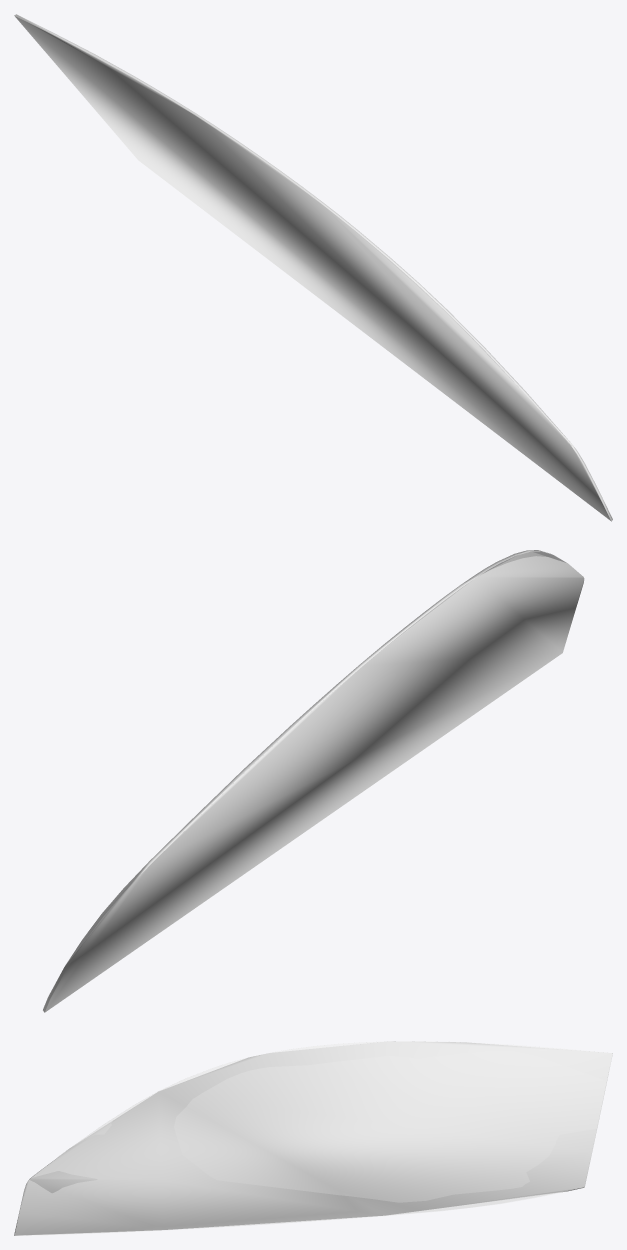
3 views of the same model, one above another, from view 1: azimuth 30°, elevation 25°; view 2: azimuth 150°, elevation 25°; view 3: azimuth 270°, elevation 25° (orthographic). The views are drawn at different scales.
Visible parts, largest first — view 1: glass_eclipse_side_window_r_01_col, glass_eclipse_side_window_r_01; view 2: glass_eclipse_side_window_r_01_col, glass_eclipse_side_window_r_01; view 3: glass_eclipse_side_window_r_01, glass_eclipse_side_window_r_01_col.
Boxes of the visible parts, x1,y1,x2,y2 form: glass_eclipse_side_window_r_01_col: (14,14,612,521); glass_eclipse_side_window_r_01: (14,14,610,518); glass_eclipse_side_window_r_01_col: (43,550,584,1012); glass_eclipse_side_window_r_01: (43,550,584,1012); glass_eclipse_side_window_r_01: (15,1041,612,1235); glass_eclipse_side_window_r_01_col: (14,1041,612,1235).
Size of the model in its own units: 0.2103 by 0.316 by 1.13.
Materials: 2 (2 with a texture image).
